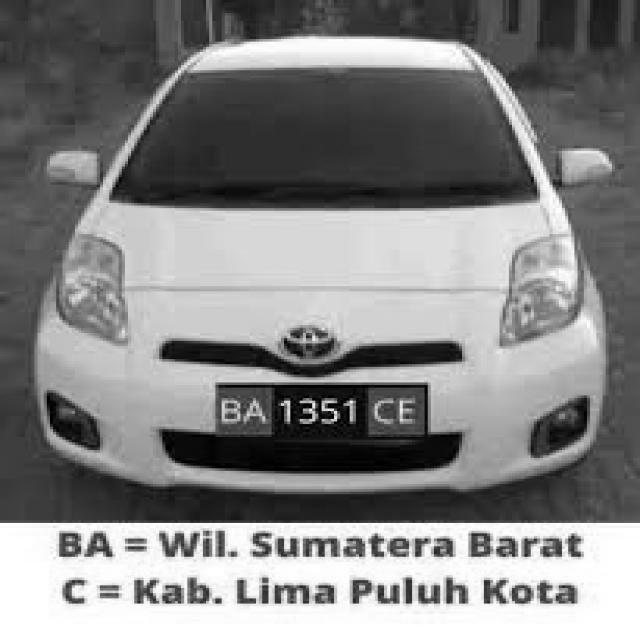1: (276, 392, 296, 428), (342, 392, 359, 429)
3: (296, 398, 320, 428)
5: (321, 396, 339, 432)
B: (218, 394, 244, 426), (244, 396, 268, 426)
C: (371, 396, 395, 429)
E: (400, 393, 418, 429)
